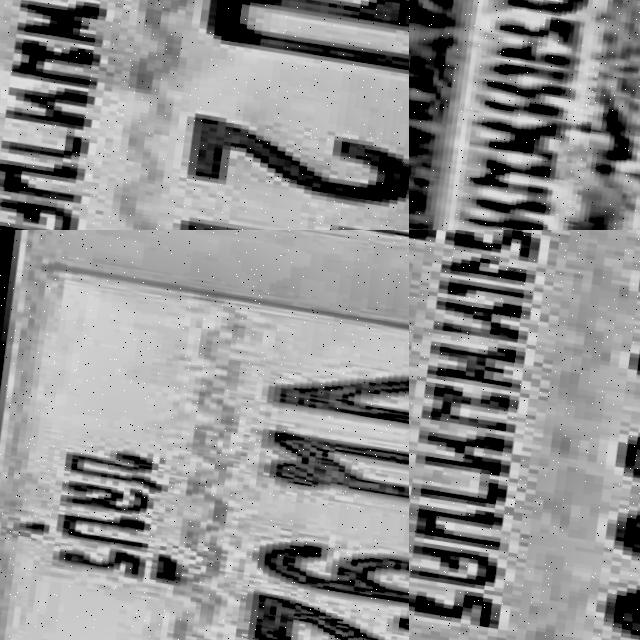license-plate: (0, 230, 409, 640), (409, 230, 640, 640), (0, 0, 409, 230), (409, 0, 640, 230)
